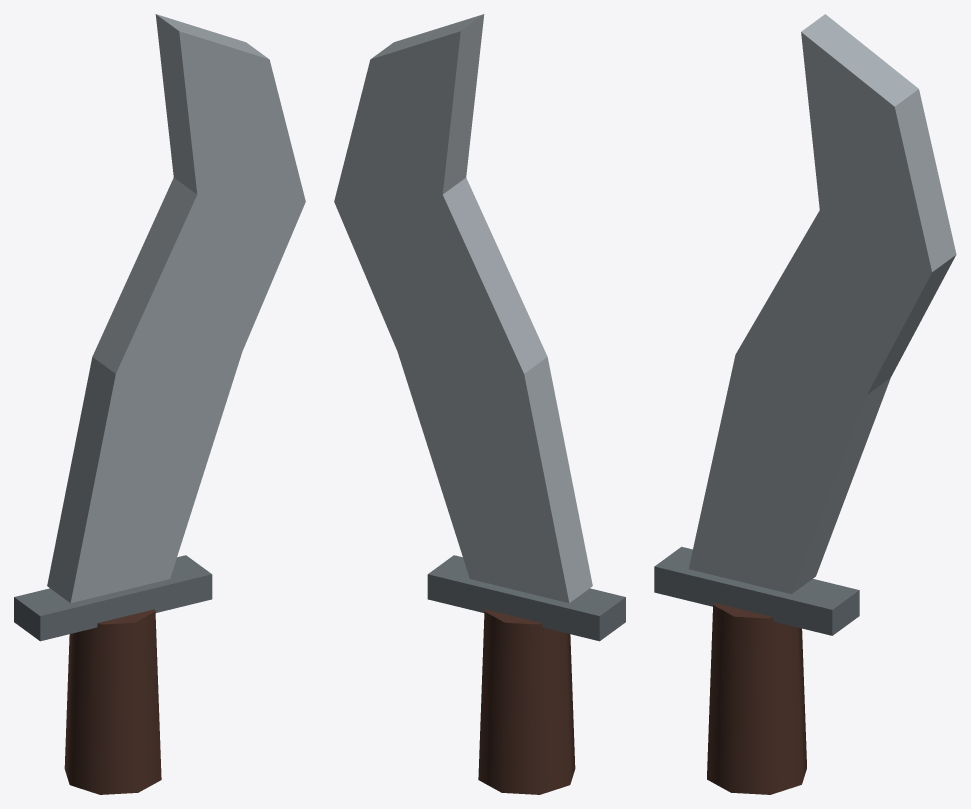
File: scimitar.glb
3 views of the same model, side by side, from view 1: azimuth 30°, elevation 25°; view 2: azimuth 150°, elevation 25°; view 3: azimuth 330°, elevation 25° (orthographic). The views are drawn at different scales.
Visible parts, largest first — view 1: scimitar-blade, scimitar-grip, scimitar-guard; view 2: scimitar-blade, scimitar-grip, scimitar-guard; view 3: scimitar-blade, scimitar-grip, scimitar-guard.
Part boxes in pixels (box(x1,y1,x2,y2)): scimitar-blade: box(47, 14, 305, 603); scimitar-grip: box(64, 609, 161, 794); scimitar-guard: box(14, 555, 212, 641); scimitar-blade: box(334, 14, 592, 603); scimitar-grip: box(478, 609, 575, 794); scimitar-guard: box(427, 555, 625, 641); scimitar-blade: box(688, 14, 956, 594); scimitar-grip: box(707, 603, 806, 794); scimitar-guard: box(654, 546, 859, 635).
Bounding box in the file's own units: 0.295 × 0.78 × 0.096.
